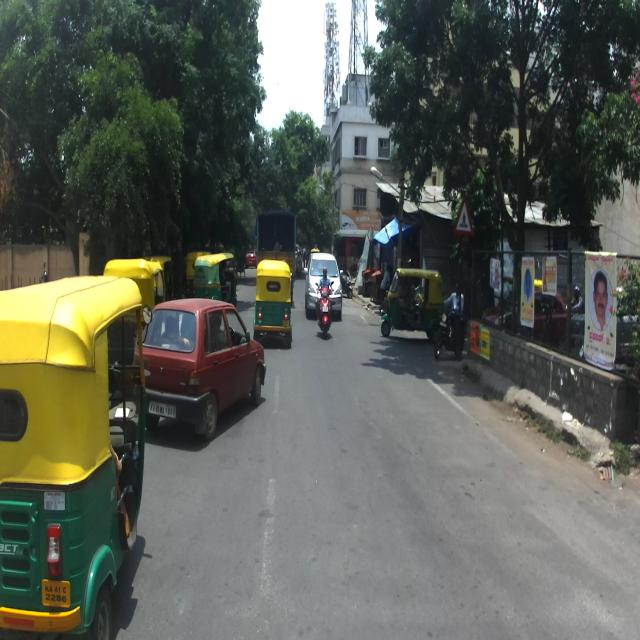auto ahead at: (0, 275, 150, 635), (387, 267, 442, 336), (263, 267, 294, 351)
car ahead at: (148, 297, 265, 449)
motorcycle ahead at: (314, 285, 335, 338)
